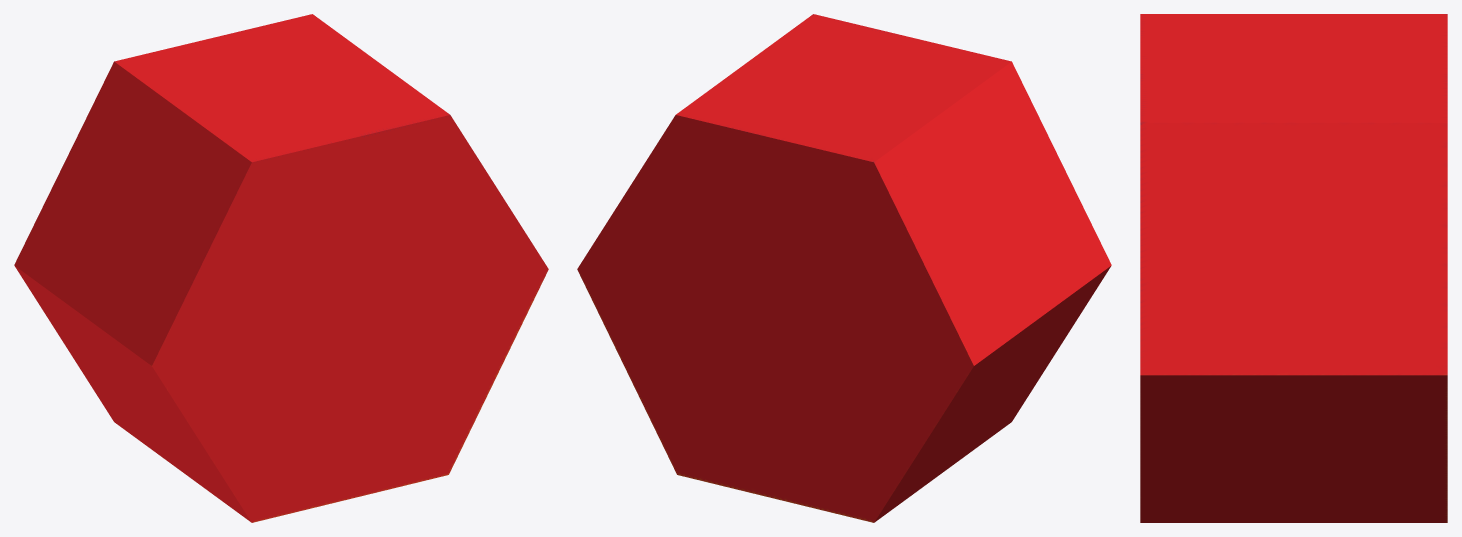
The model's file is pergunta8Obj.fbx.
The picture shows the model from 3 angles, left to right: view 1: azimuth 30°, elevation 25°; view 2: azimuth 150°, elevation 25°; view 3: azimuth 270°, elevation 25°; orthographic projection. The views are drawn at different scales.
Visible parts, largest first — view 1: node_id5; view 2: node_id5; view 3: node_id5.
Boxes of the visible parts, box(x1,y1,x2,y2) form: node_id5: box(14, 14, 548, 522); node_id5: box(577, 14, 1111, 522); node_id5: box(1140, 14, 1447, 522).
Bounding box in the file's own units: 0.512 × 0.4445 × 0.3079.
1 material, 1 textured.
